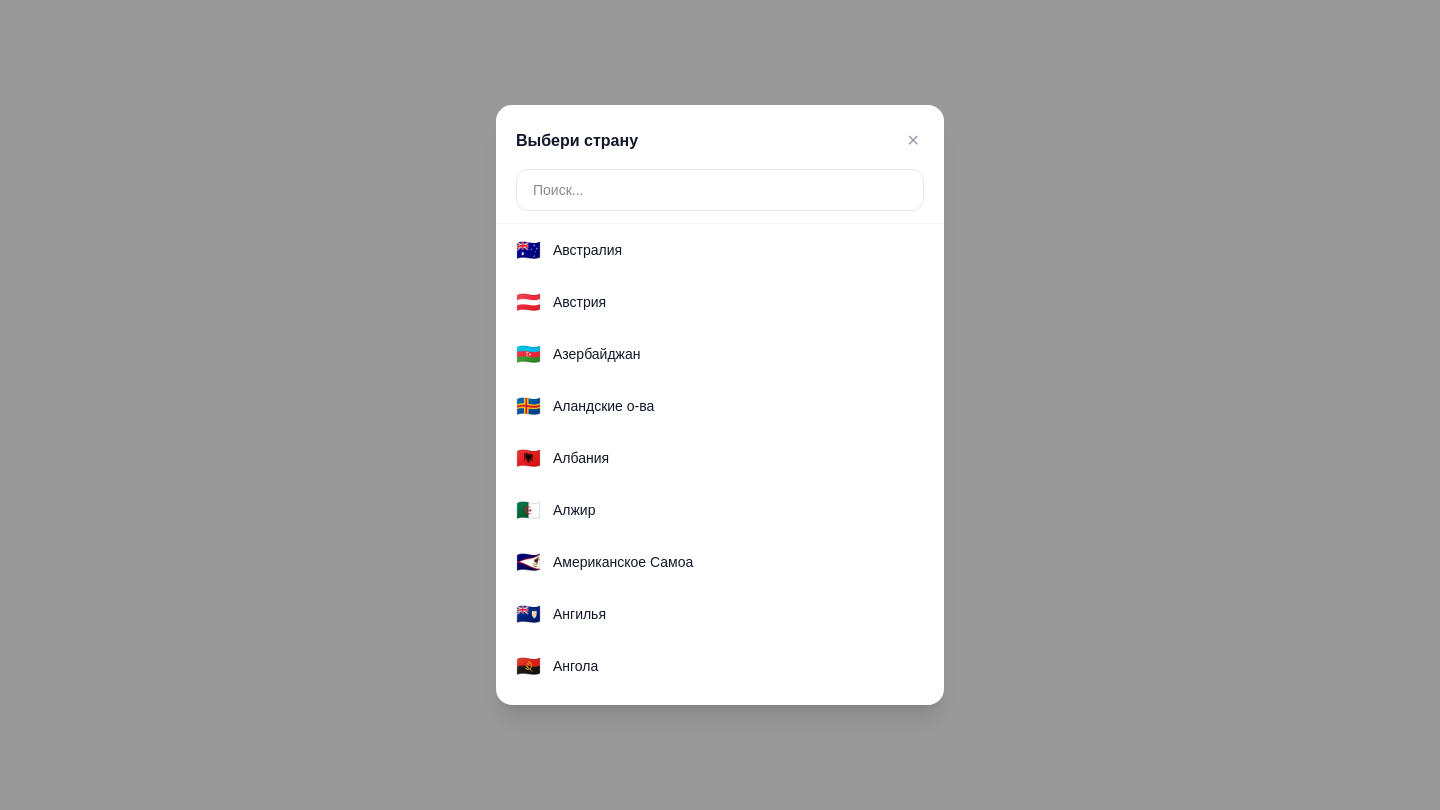
it: CountryPickerModal › filters the list by typed search text (label match)
This screenshot has width=1440, height=810.
Step 1. Type "США" into the search field with placeholder "Поиск..." → (720, 190), box [516,169,924,211]
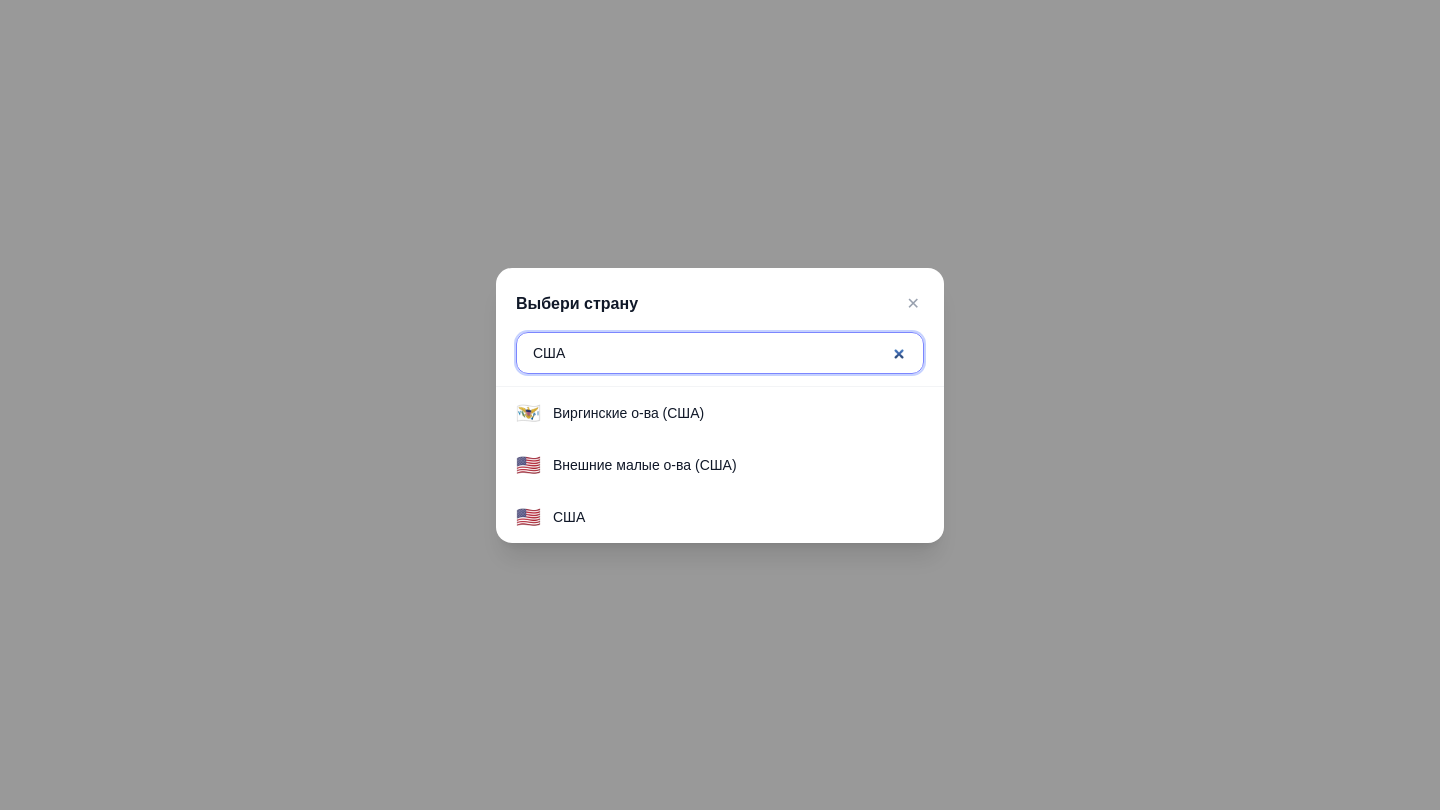
Result: the text "США" is shown at [553,508,585,524]
